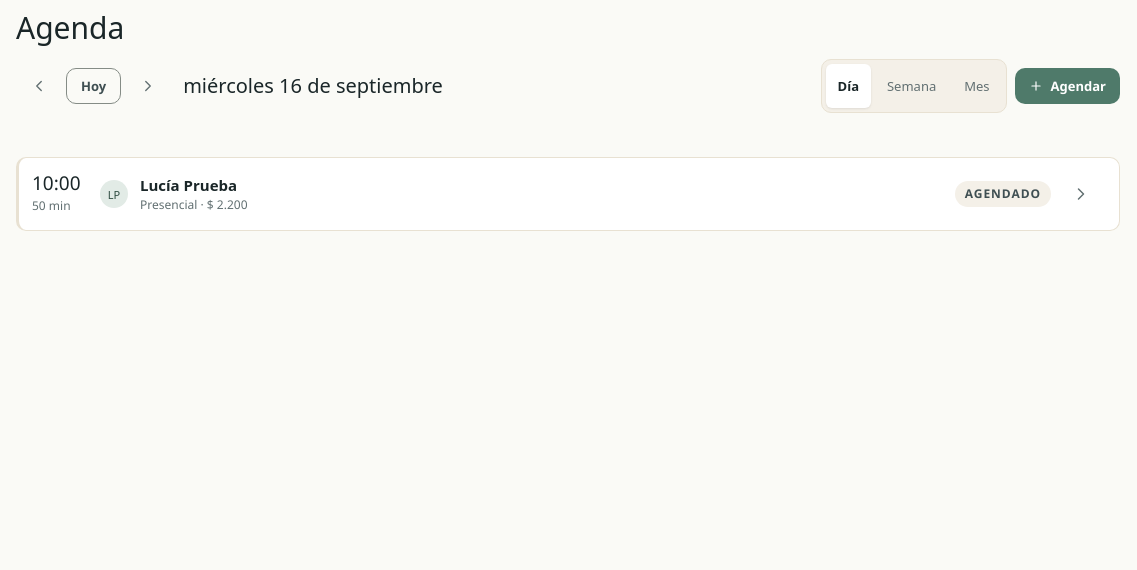
mientras llega la semana siguiente, el día nuevo no dice que no hay turnos
Expected: the text "Lucía Prueba" is shown, x1=140 y1=174 x2=248 y2=196
Click the button named "Siguiente" at (148, 86), box x1=125 y1=68 x2=171 y2=104
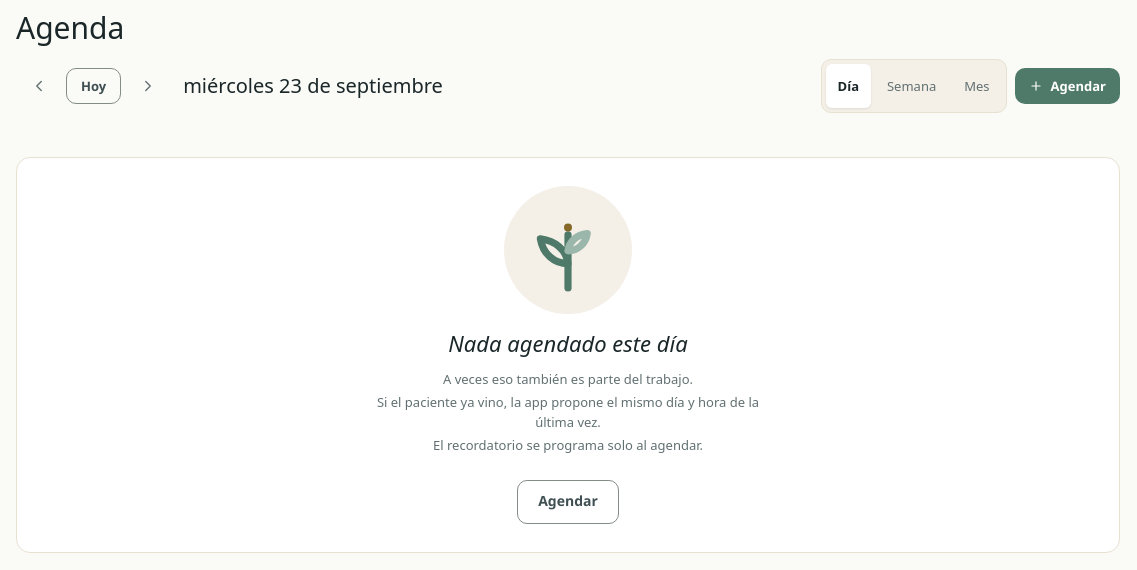
Expected: no links "Lucía" are shown
Expected: the heading "Nada agendado este día" is shown, x1=448 y1=330 x2=688 y2=358
